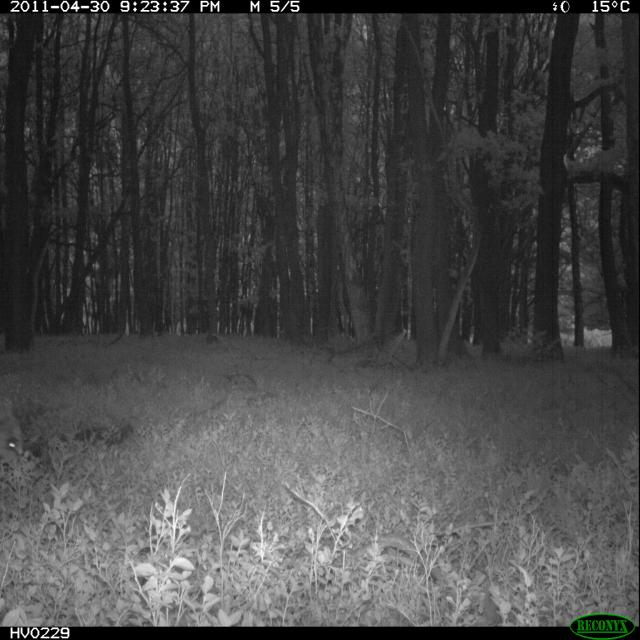boar: (0, 372, 34, 486)
